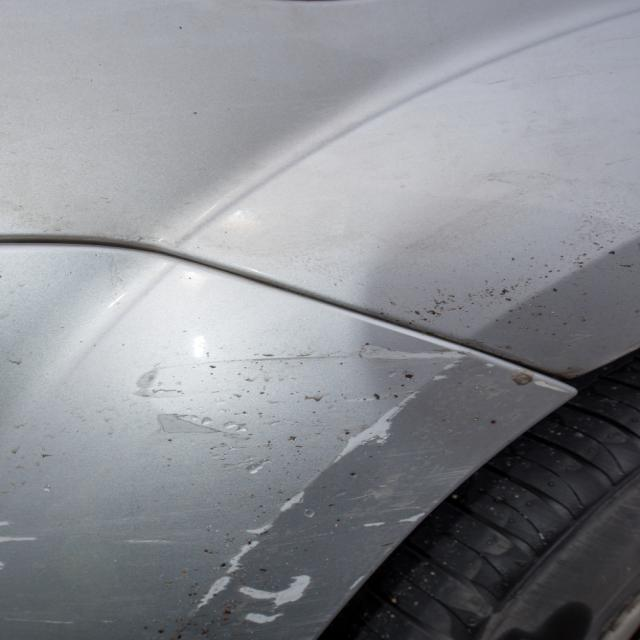scratch: (0, 341, 477, 640)
